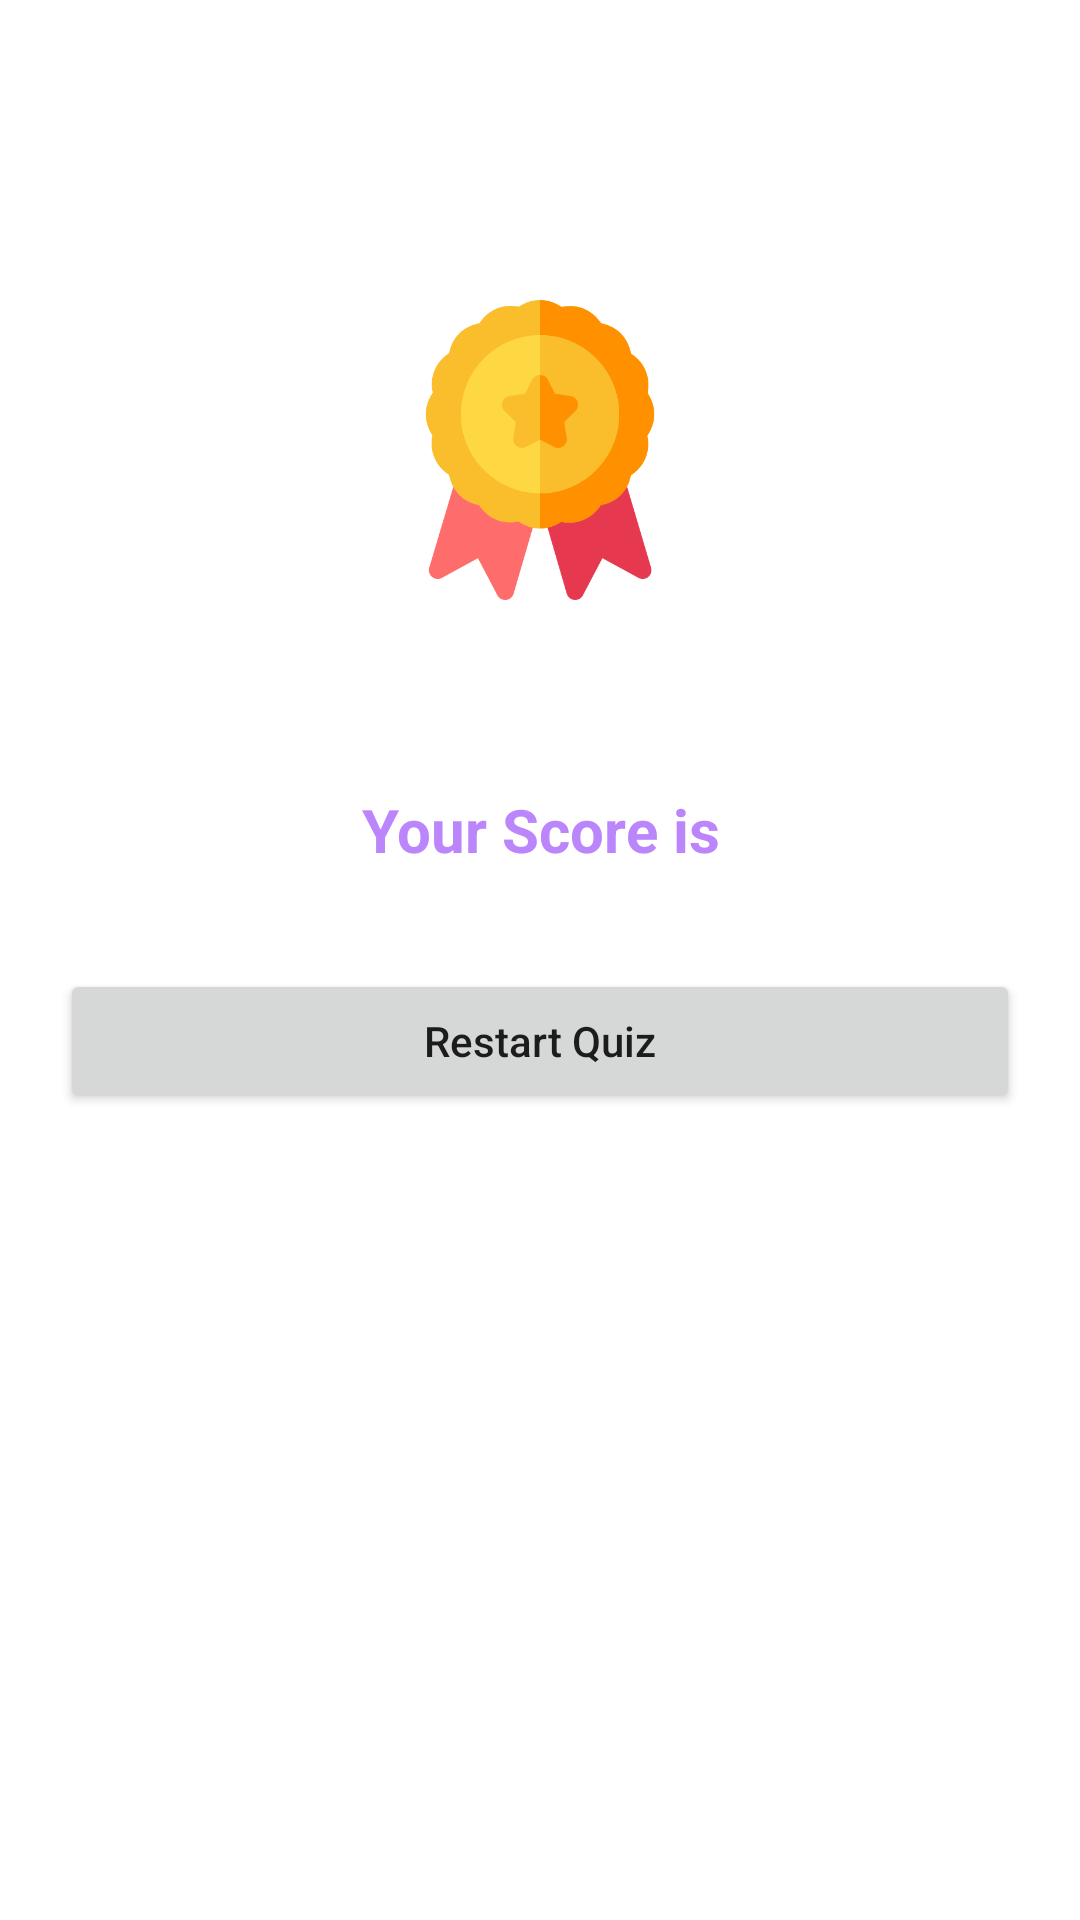

Screen size 1080*1920. Icon name, then its center in pixels as point (x, y):
trophy: point (540, 450)
